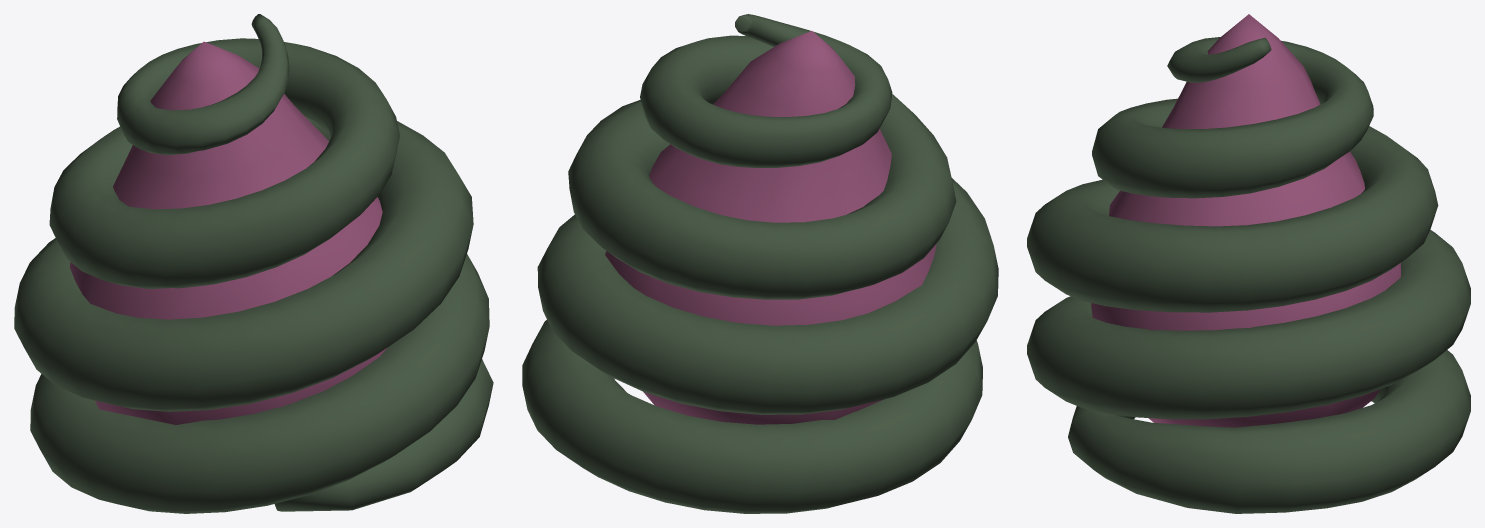
File: BounceFlowerCOLD.fbx
The picture shows the model from 3 angles, left to right: view 1: azimuth 30°, elevation 25°; view 2: azimuth 150°, elevation 25°; view 3: azimuth 270°, elevation 25°; orthographic projection. The views are drawn at different scales.
Parts seen in each view (by area): view 1: pSphere2; view 2: pSphere2; view 3: pSphere2.
Boxes of the visible parts, bbox=[...] form: pSphere2: bbox=[14, 14, 493, 513]; pSphere2: bbox=[522, 14, 998, 513]; pSphere2: bbox=[1027, 14, 1470, 513].
Size of the model in its own units: 138 by 135 by 132.
